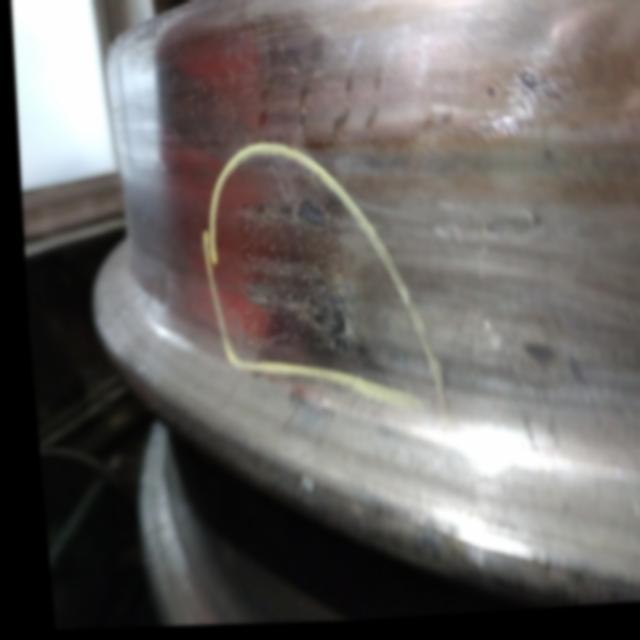Rollerpile: (230, 201, 347, 353)
